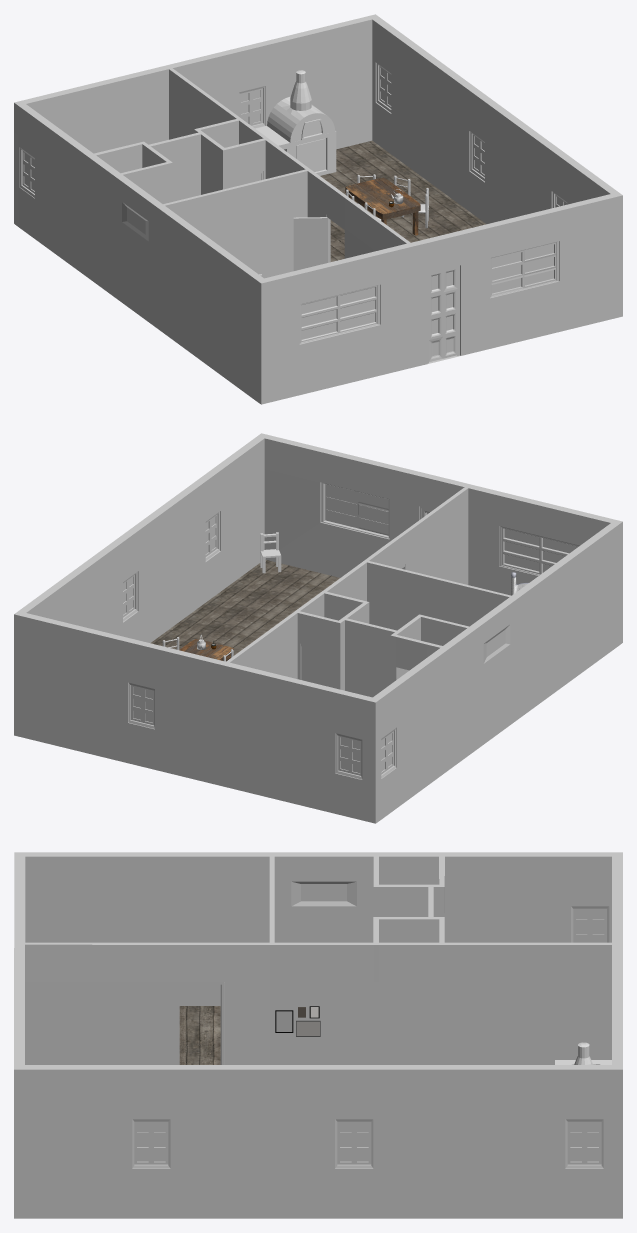
The model's file is house02.fbx.
3 views of the same model, one above another, from view 1: azimuth 30°, elevation 25°; view 2: azimuth 150°, elevation 25°; view 3: azimuth 270°, elevation 25° (orthographic). The views are drawn at different scales.
Visible parts, largest first — view 1: Casa, Piso, Mesada, Puerta, Vidrio ventana, Mesa, Puerta.002, Ventana vidrio.001, Ventana, Ventana.001, Ventana.005, Vidrio puerta; view 2: Casa, Piso, Ventana vidrio.001, Vidrio ventana, Puerta.001, Ventana, Ventana.005, Ventana.006, Ventana.001, Mesa, Marco ventana.001; view 3: Casa, Piso, Ventana.002, Ventana.003, Ventana.004, Ventana.007, Cuadros, Vidrio ventana.001, Marco ventana.002, Marco ventana.003, Marco ventana.004, Ventana.008 (+1 smaller).
Boxes of the visible parts, x1,y1,x2,y2 form: Casa: [14, 14, 622, 404]; Piso: [320, 140, 486, 261]; Mesada: [255, 70, 336, 175]; Puerta: [429, 267, 457, 361]; Vidrio ventana: [301, 287, 375, 339]; Mesa: [345, 177, 420, 235]; Puerta.002: [293, 217, 327, 270]; Ventana vidrio.001: [492, 244, 553, 293]; Ventana: [301, 286, 377, 342]; Ventana.001: [491, 242, 556, 296]; Ventana.005: [240, 88, 262, 125]; Vidrio puerta: [431, 271, 452, 334]; Casa: [14, 433, 622, 823]; Piso: [150, 560, 339, 655]; Ventana vidrio.001: [326, 484, 388, 534]; Vidrio ventana: [504, 529, 577, 572]; Puerta.001: [302, 646, 331, 687]; Ventana: [502, 527, 578, 574]; Ventana.005: [131, 685, 154, 725]; Ventana.006: [338, 735, 361, 775]; Ventana.001: [325, 484, 388, 535]; Mesa: [179, 639, 233, 661]; Marco ventana.001: [321, 482, 389, 538]; Casa: [14, 852, 622, 1218]; Piso: [179, 1006, 220, 1064]; Ventana.002: [134, 1121, 168, 1164]; Ventana.003: [337, 1121, 371, 1164]; Ventana.004: [567, 1121, 601, 1164]; Ventana.007: [573, 908, 606, 942]; Cuadros: [275, 1006, 320, 1036]; Vidrio ventana.001: [301, 884, 346, 901]; Marco ventana.002: [132, 1119, 170, 1168]; Marco ventana.003: [335, 1119, 373, 1168]; Marco ventana.004: [565, 1119, 603, 1168]; Ventana.008: [295, 882, 352, 904].
Size of the model in its own units: 938 by 300 by 1111.
